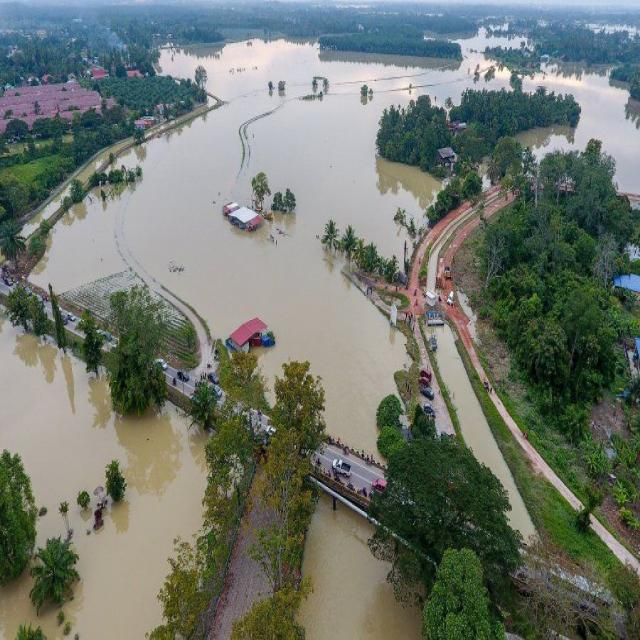flood: (28, 36, 640, 451), (0, 311, 207, 640), (436, 326, 536, 534), (299, 496, 422, 640)
house: (223, 310, 276, 360), (226, 203, 264, 236)
